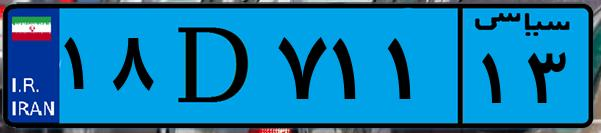1: (385, 28, 445, 110), (330, 28, 385, 110), (57, 26, 110, 100), (475, 38, 525, 113)
3: (525, 38, 570, 115)
7: (270, 28, 330, 110)
8: (110, 28, 158, 98)
D: (158, 12, 270, 120)
